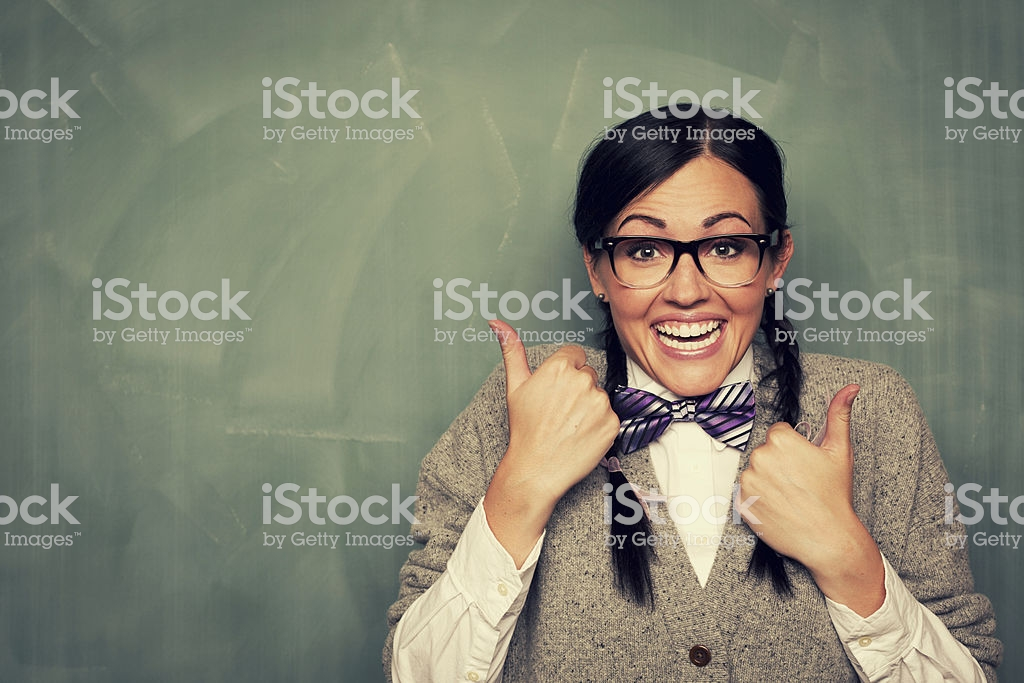thumbsup: (486, 317, 621, 448), (734, 382, 860, 520)
